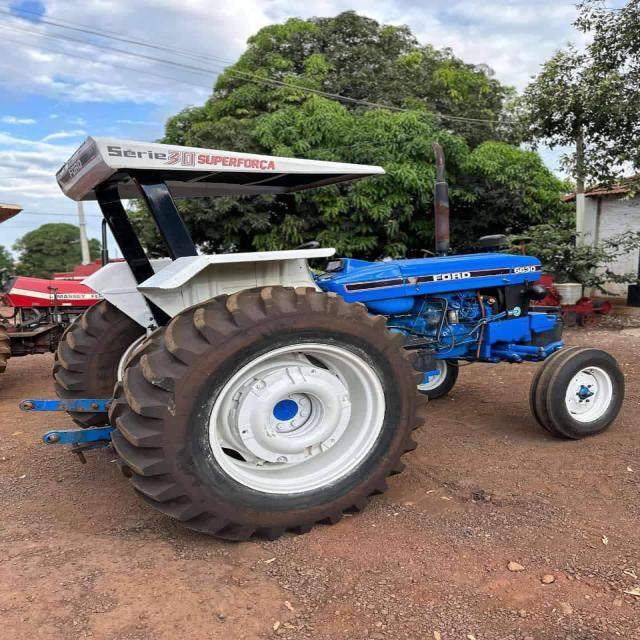Tratores - v5 YOLO V8L 2024-11-13: (47, 132, 622, 548)
